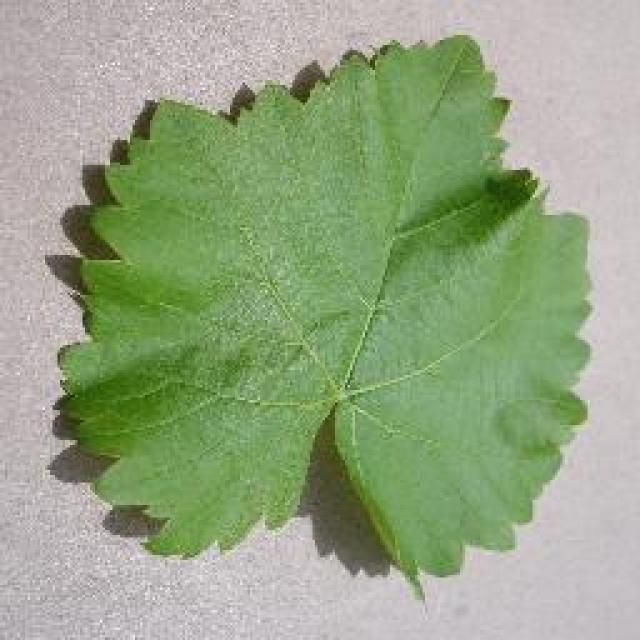Grape___healthy: (50, 32, 602, 625)
